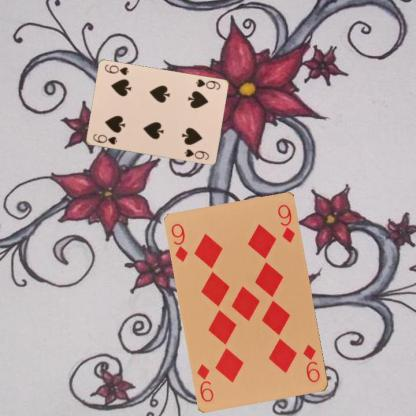6s: (193, 76, 221, 92), (90, 131, 119, 146)
9d: (168, 221, 190, 264), (301, 342, 322, 384)
